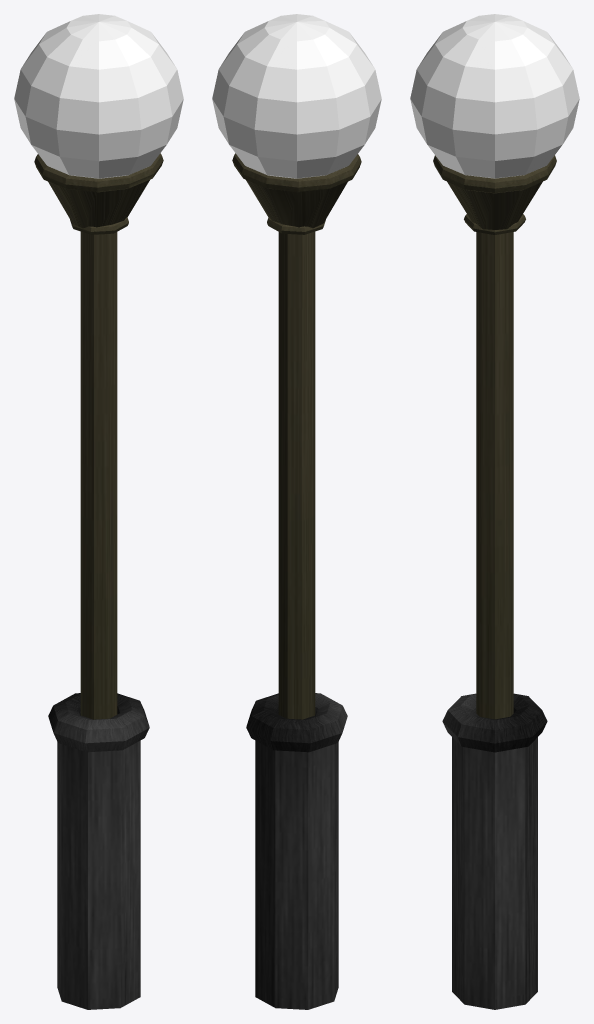
File: Lightpost.obj
3 views of the same model, side by side, from view 1: azimuth 30°, elevation 25°; view 2: azimuth 150°, elevation 25°; view 3: azimuth 270°, elevation 25° (orthographic).
Visible parts, largest first — view 1: pSphere1, pCylinder2, pCylinder1, pTorus2, pTorus3, pTorus4; view 2: pSphere1, pCylinder2, pCylinder1, pTorus2, pTorus3, pTorus4; view 3: pCylinder2, pSphere1, pCylinder1, pTorus2, pTorus3, pTorus4.
Part boxes in pixels (bbox=[...]): pSphere1: bbox=[14, 14, 183, 178]; pCylinder2: bbox=[57, 740, 140, 1009]; pCylinder1: bbox=[80, 231, 117, 719]; pTorus2: bbox=[34, 153, 163, 228]; pTorus3: bbox=[48, 693, 149, 752]; pTorus4: bbox=[70, 217, 128, 234]; pSphere1: bbox=[212, 14, 381, 178]; pCylinder2: bbox=[255, 740, 338, 1009]; pCylinder1: bbox=[278, 231, 315, 719]; pTorus2: bbox=[232, 153, 361, 228]; pTorus3: bbox=[246, 693, 347, 752]; pTorus4: bbox=[267, 217, 325, 234]; pCylinder2: bbox=[452, 737, 537, 1009]; pSphere1: bbox=[410, 14, 579, 178]; pCylinder1: bbox=[476, 232, 513, 719]; pTorus2: bbox=[433, 155, 556, 229]; pTorus3: bbox=[442, 693, 547, 752]; pTorus4: bbox=[464, 214, 525, 234].
Size of the model in its own units: 4.73 by 29.85 by 4.73.
